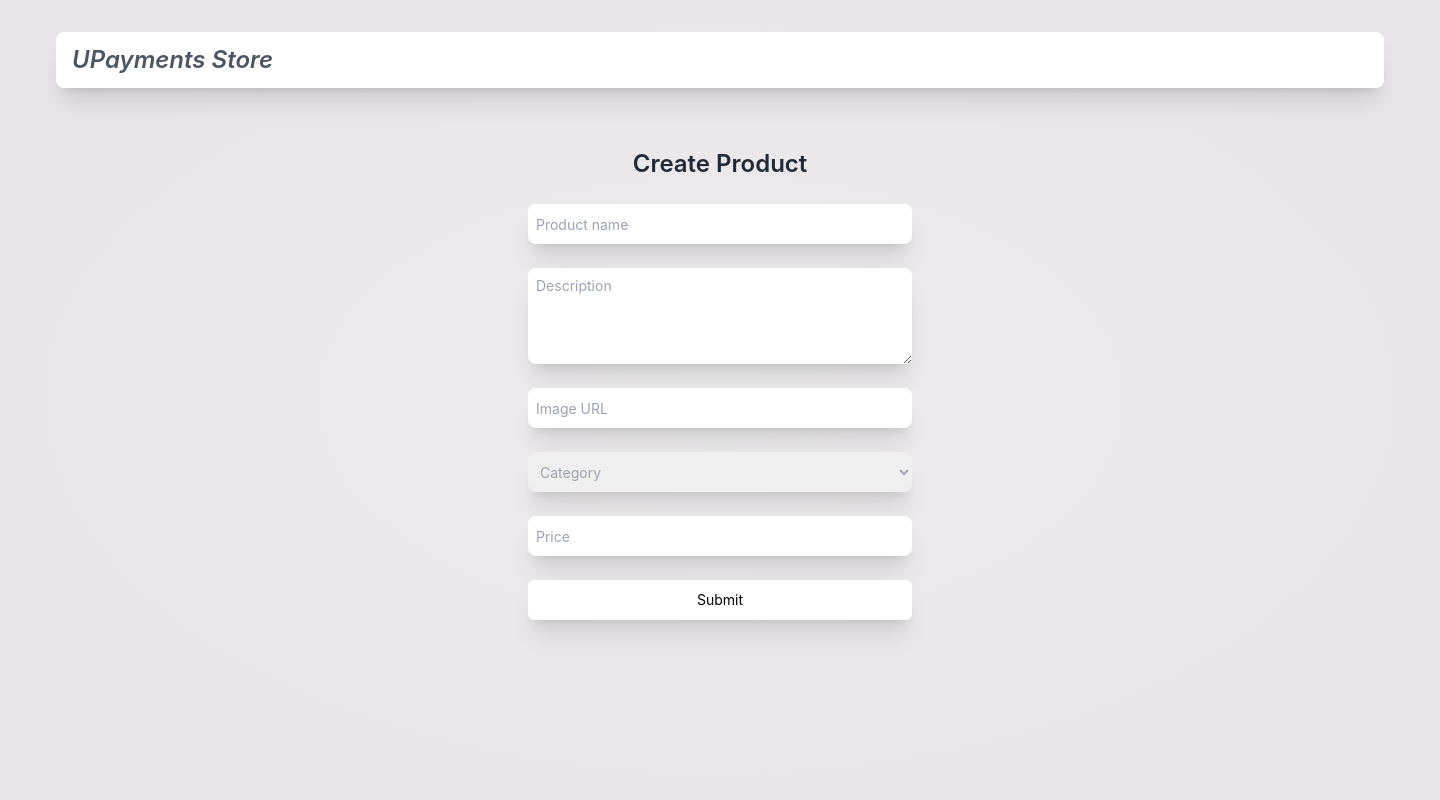
Test: Create Product Page › should close error modal when close is clicked
Type "Test case description" into the text box with test id "description-input" at (720, 316), box [528,268,912,364]
Type "Laptop" into the field with test id "name-input" at (720, 224), box [528,204,912,244]
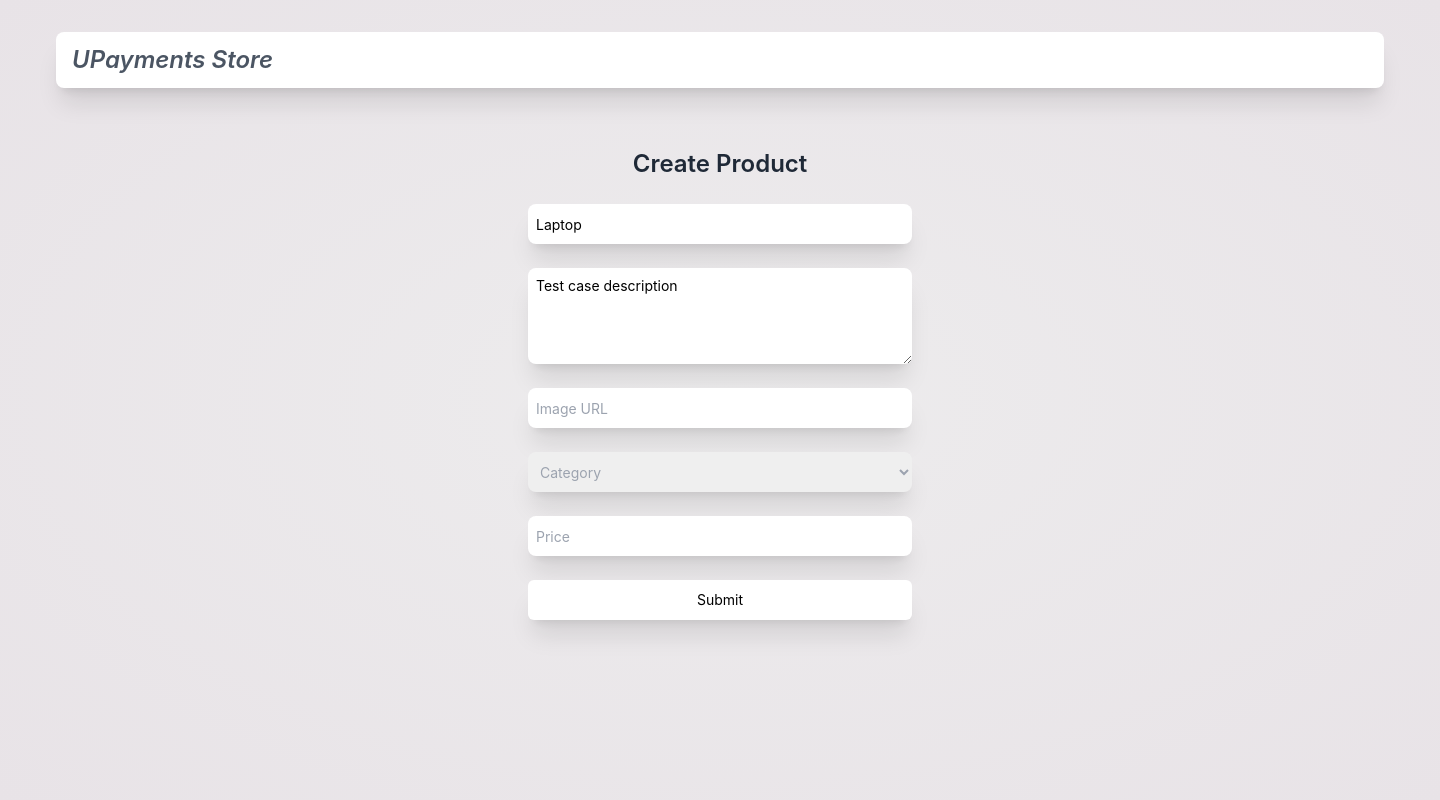
Select "Electronic" in the dropdown with test id "category-input" at (720, 472), box [528,452,912,492]
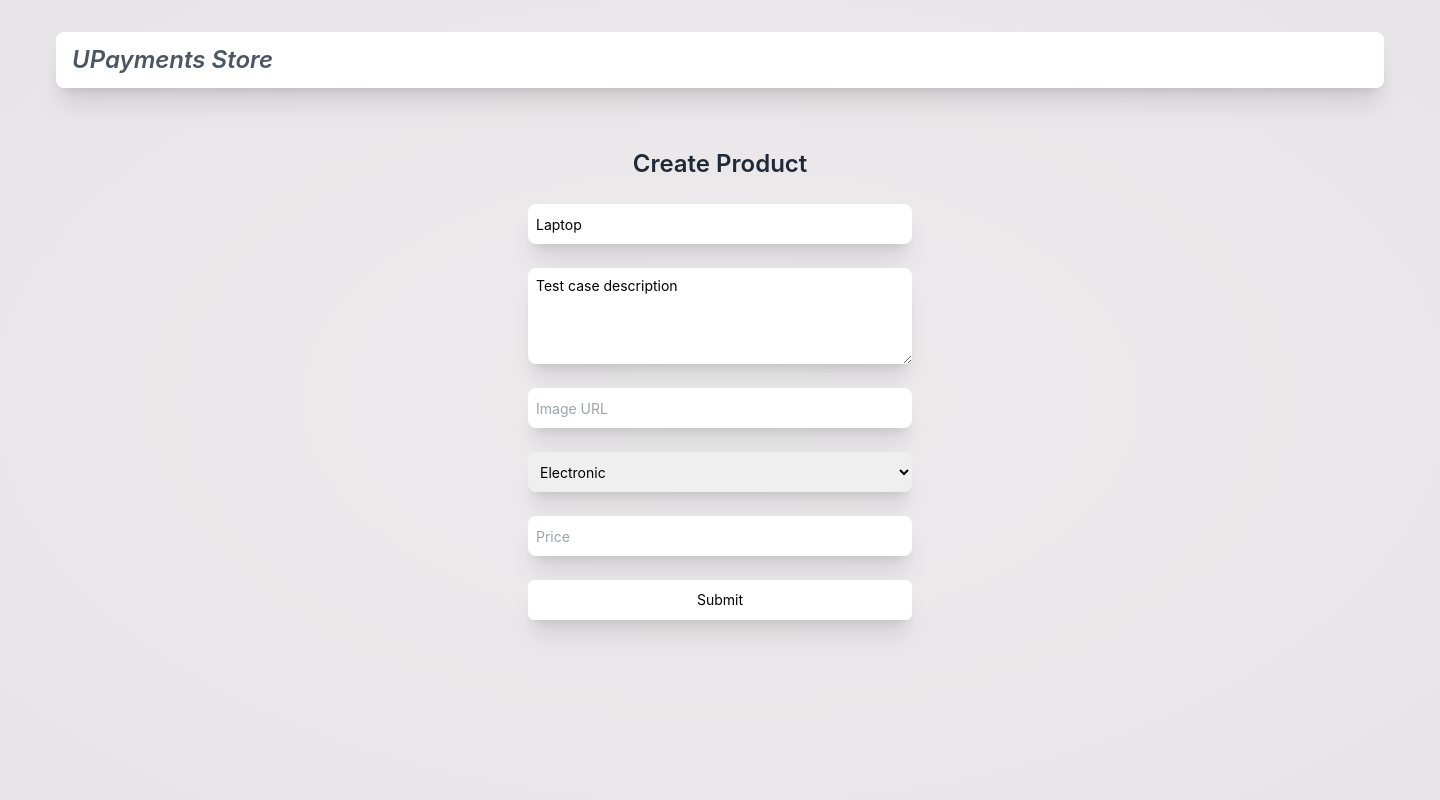
Type "https://snipstock.com/image/laptop-2746336-960-720-png-54021?download=medium" into the field with test id "avatar-input" at (720, 408), box [528,388,912,428]
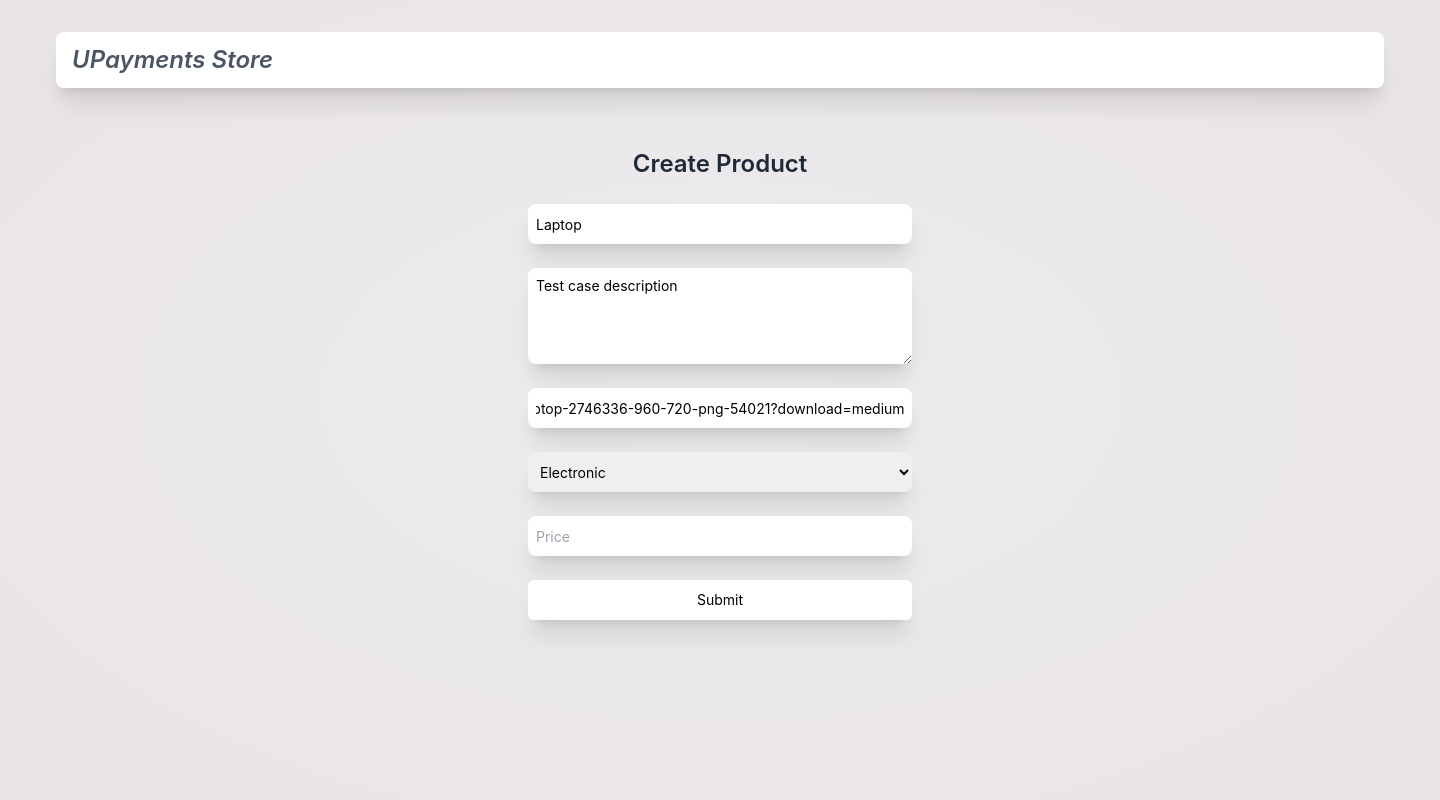
Type "1500" into the field with test id "price-input" at (720, 536), box [528,516,912,556]
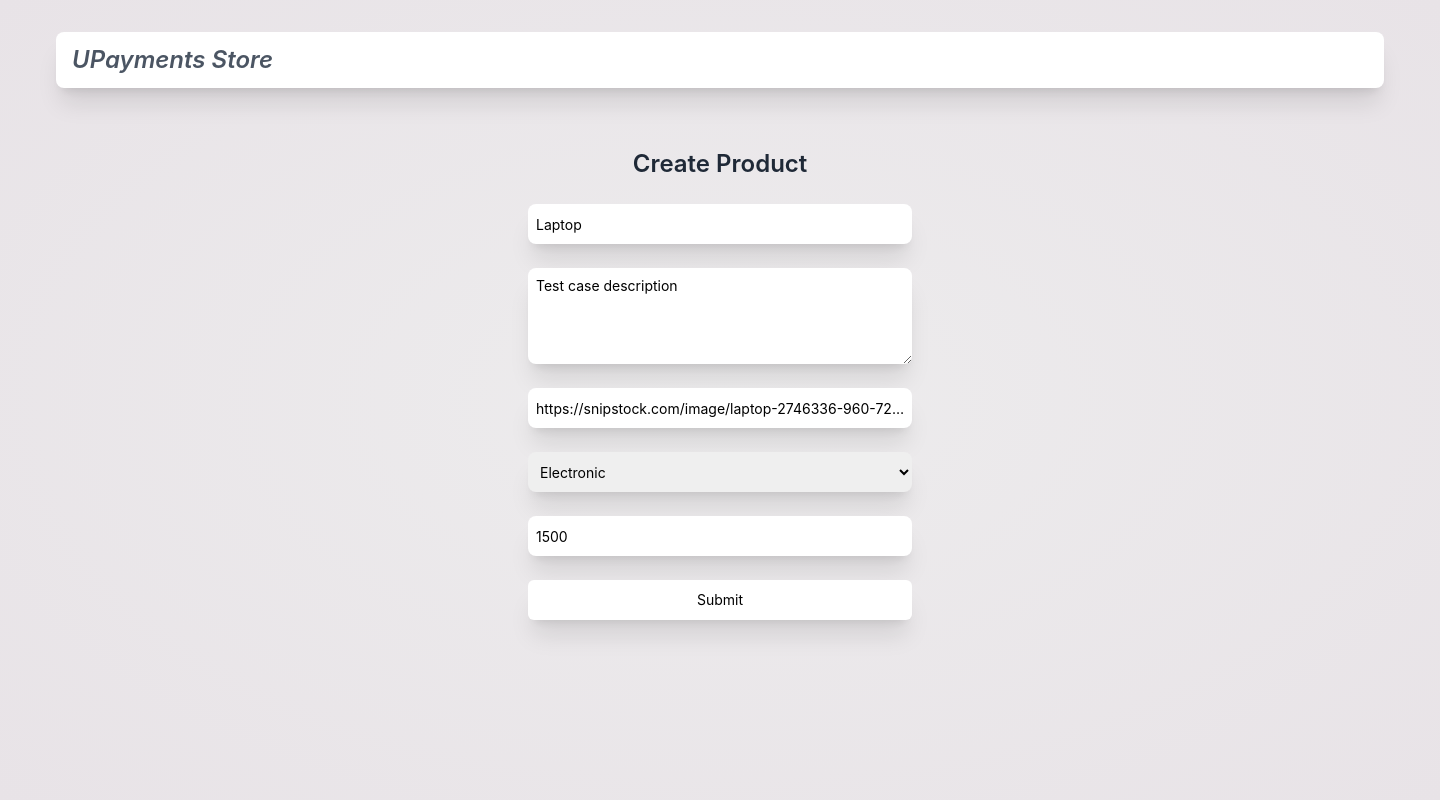
Click the button "Submit" at (720, 600), box [528,580,912,620]
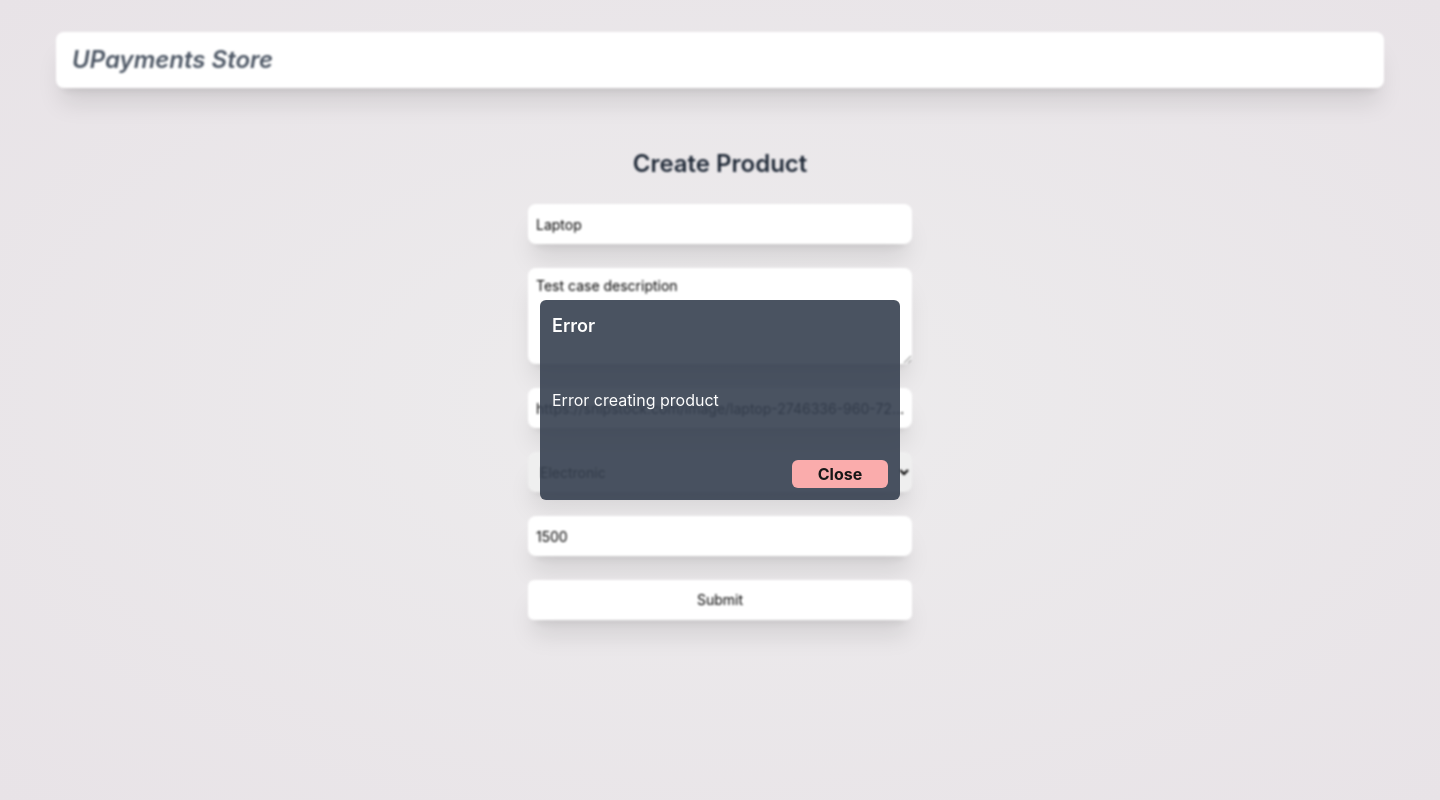
Result: the text "Error creating product" is shown at [552,390,719,410]
Click the button "Close" at (840, 474), box [792,460,888,488]
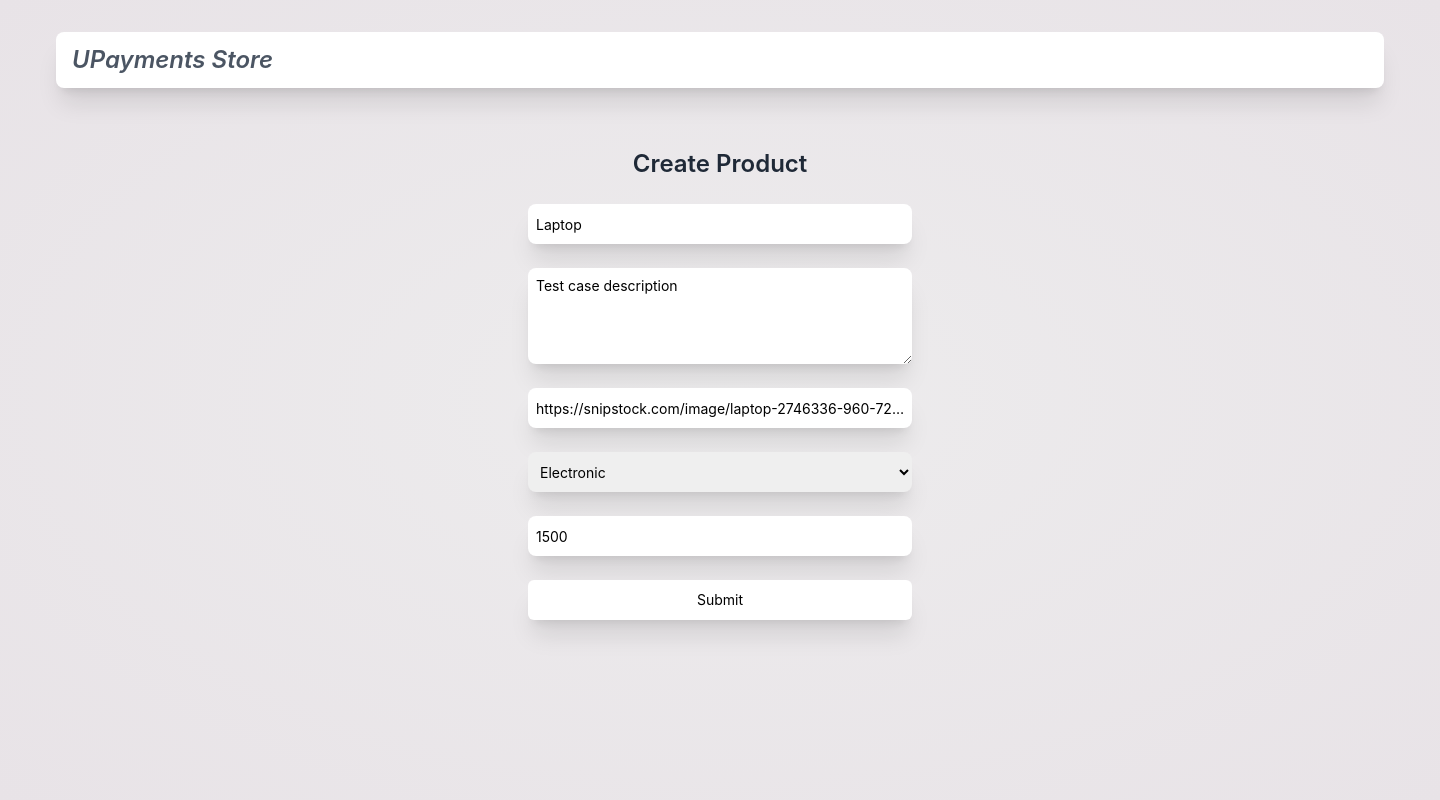
Result: the text "Error creating product" is gone
